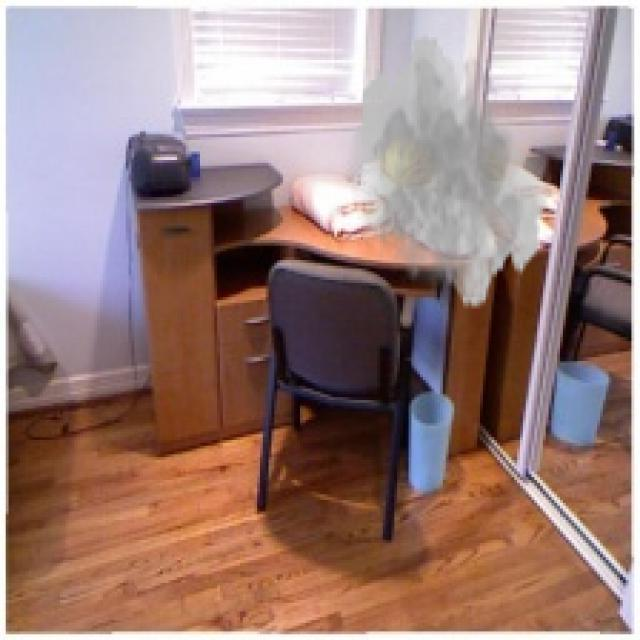Smoke: (348, 31, 552, 312)
